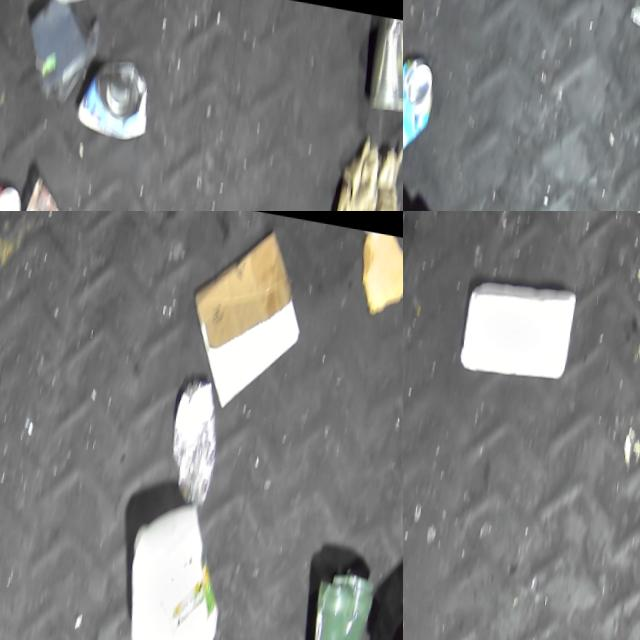can: (161, 368, 242, 509), (64, 46, 166, 152), (306, 549, 383, 640), (403, 41, 450, 157), (360, 4, 403, 123)
milk_jug: (108, 487, 240, 640), (0, 0, 121, 20)
